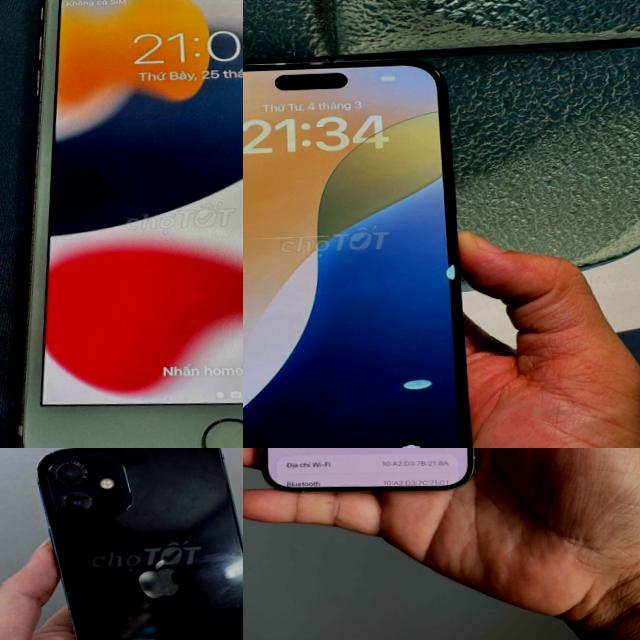scratch: (22, 100, 49, 264), (243, 52, 424, 72), (15, 262, 37, 392), (35, 0, 50, 97)
screen_defect: (430, 258, 464, 284), (398, 372, 436, 393)
